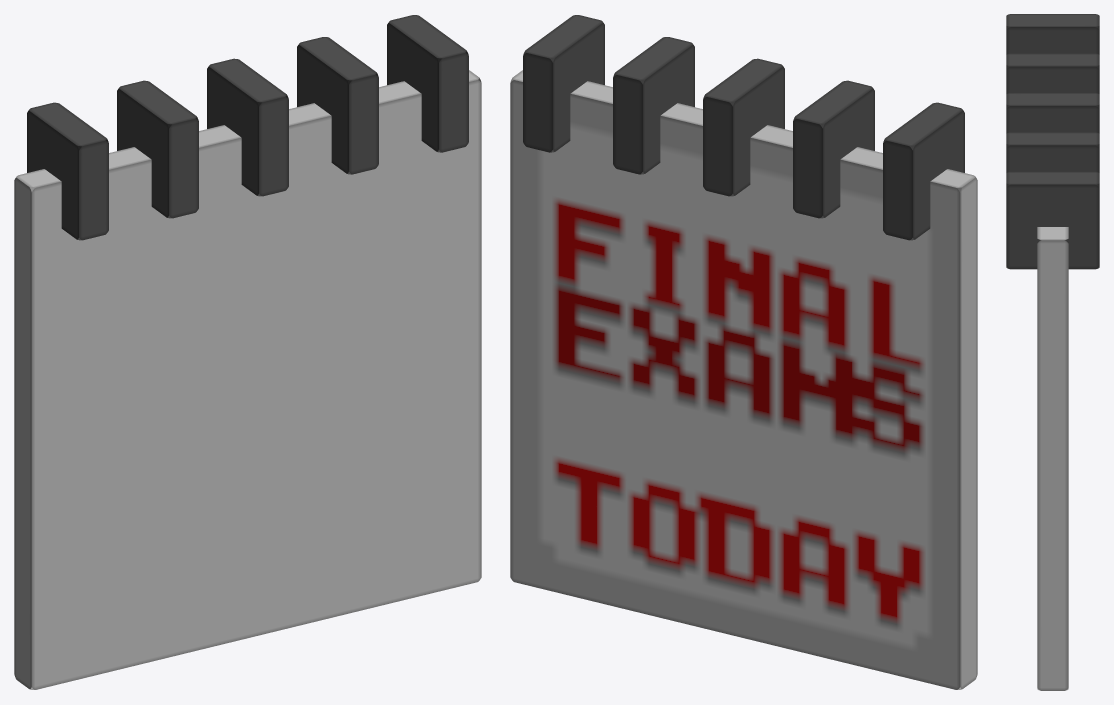
The model's file is reminder.fbx.
3 renders of one model, left to right at view 1: azimuth 30°, elevation 25°; view 2: azimuth 150°, elevation 25°; view 3: azimuth 270°, elevation 25°, orthographic. The views are drawn at different scales.
Visible parts, largest first — view 1: cuboid, cuboid_2, cuboid_1, cuboid_4, cuboid_3, cuboid_5; view 2: cuboid, cuboid_2, cuboid_1, cuboid_4, cuboid_3, cuboid_5; view 3: cuboid, cuboid_1, cuboid_5, cuboid_2, cuboid_4, cuboid_3.
Part boxes in pixels (x1,y1,x2,y2): cuboid: (14, 70, 481, 689); cuboid_2: (27, 102, 108, 240); cuboid_1: (387, 15, 468, 152); cuboid_4: (297, 37, 378, 174); cuboid_3: (117, 80, 198, 218); cuboid_5: (207, 58, 288, 196); cuboid: (510, 70, 977, 689); cuboid_2: (883, 102, 964, 240); cuboid_1: (523, 15, 604, 152); cuboid_4: (613, 37, 694, 174); cuboid_3: (793, 80, 874, 218); cuboid_5: (703, 58, 784, 196); cuboid: (1037, 227, 1068, 690); cuboid_1: (1006, 171, 1099, 269); cuboid_5: (1006, 92, 1099, 133); cuboid_2: (1006, 14, 1099, 54); cuboid_4: (1006, 132, 1099, 172); cuboid_3: (1006, 53, 1099, 93).
Size of the model in its own units: 93.75 by 109 by 18.75.
1 material, 1 textured.
